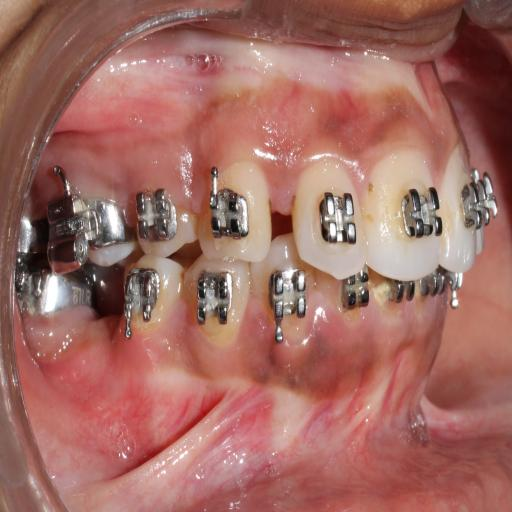correct_brace: (136, 182, 193, 261), (397, 182, 442, 248), (317, 183, 358, 254), (210, 187, 252, 240)
incorrect_brace: (297, 156, 363, 284), (135, 185, 178, 244)
